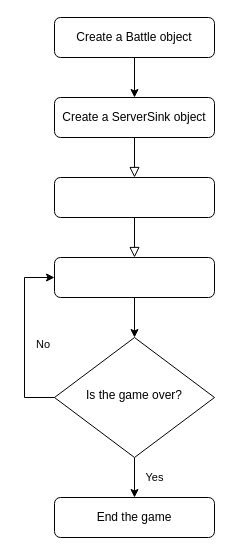
Some shapes in this 232 by 555 pixel diagram are drawn without their labels. Each missing label, with the centre of its shape:
Create a Client object: point 134,197
Create and process events: point 134,277
